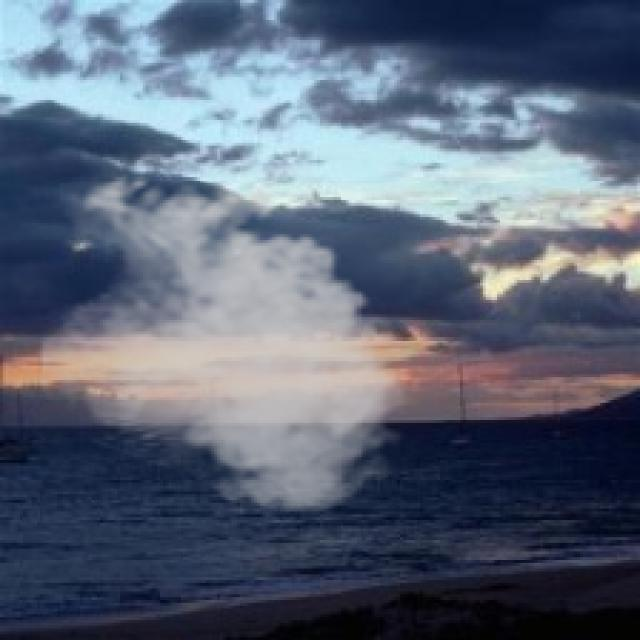smoke: (37, 163, 420, 520)
